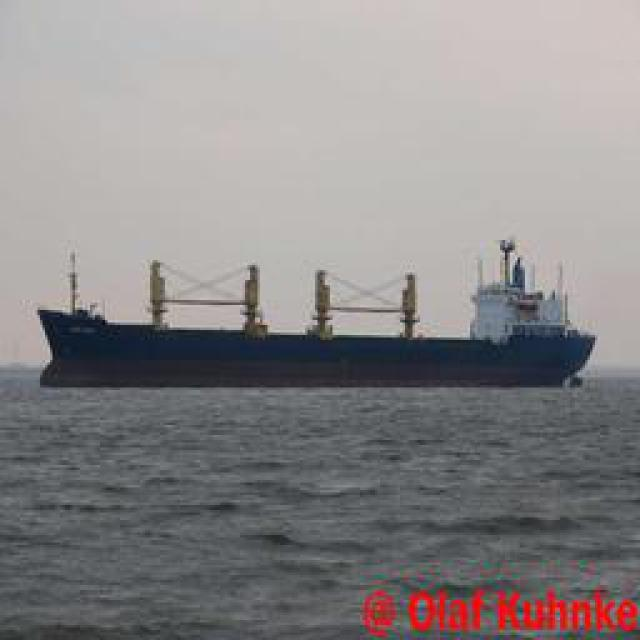Ship: (39, 240, 599, 393)
